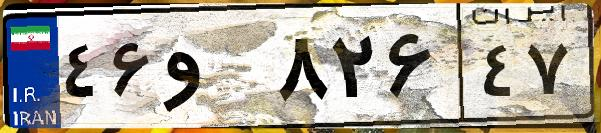2: (330, 28, 385, 110)
4: (57, 26, 110, 100), (475, 38, 525, 113)
6: (385, 28, 445, 110), (110, 28, 158, 98)
7: (525, 38, 570, 115)
8: (270, 28, 330, 110)
و: (158, 20, 270, 120)
